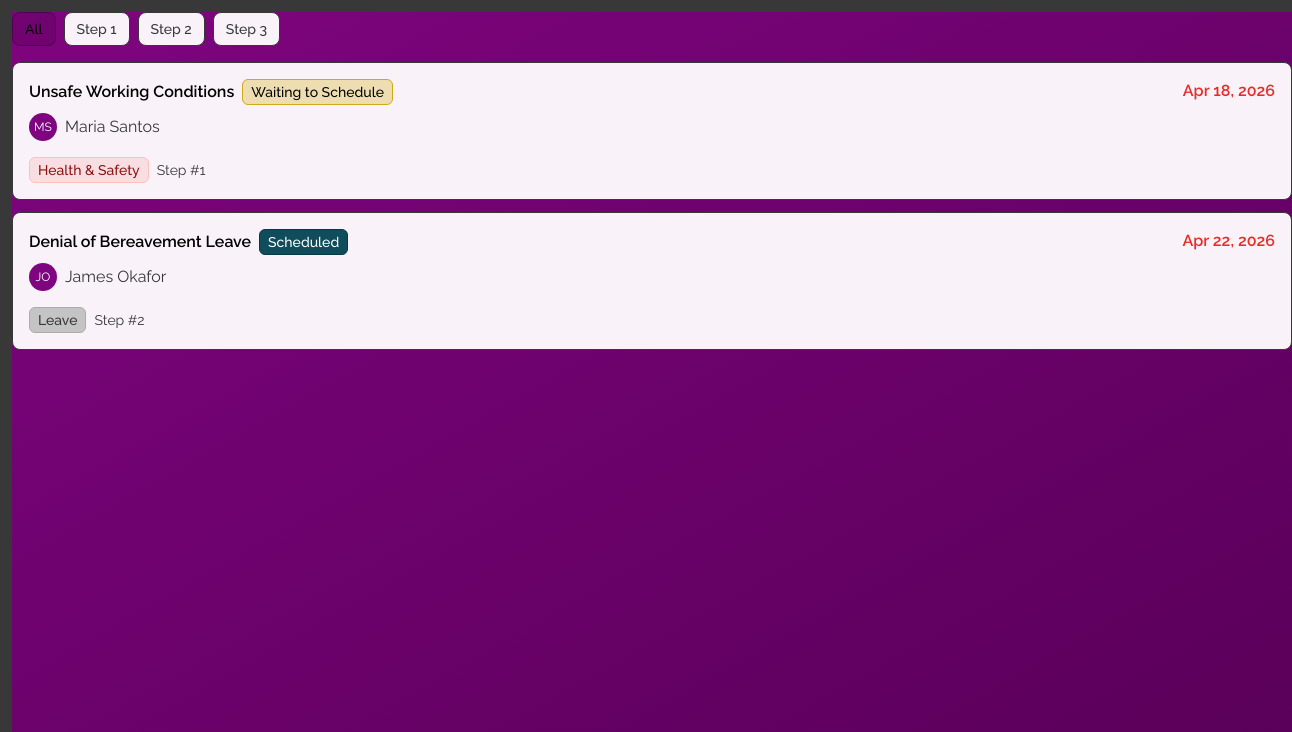
Test: StepFilterView › shows only Step #1 grievances when Step 1 filter is active
Click the button "Step 1" at (97, 29), box left=64, top=12, right=130, bottom=46
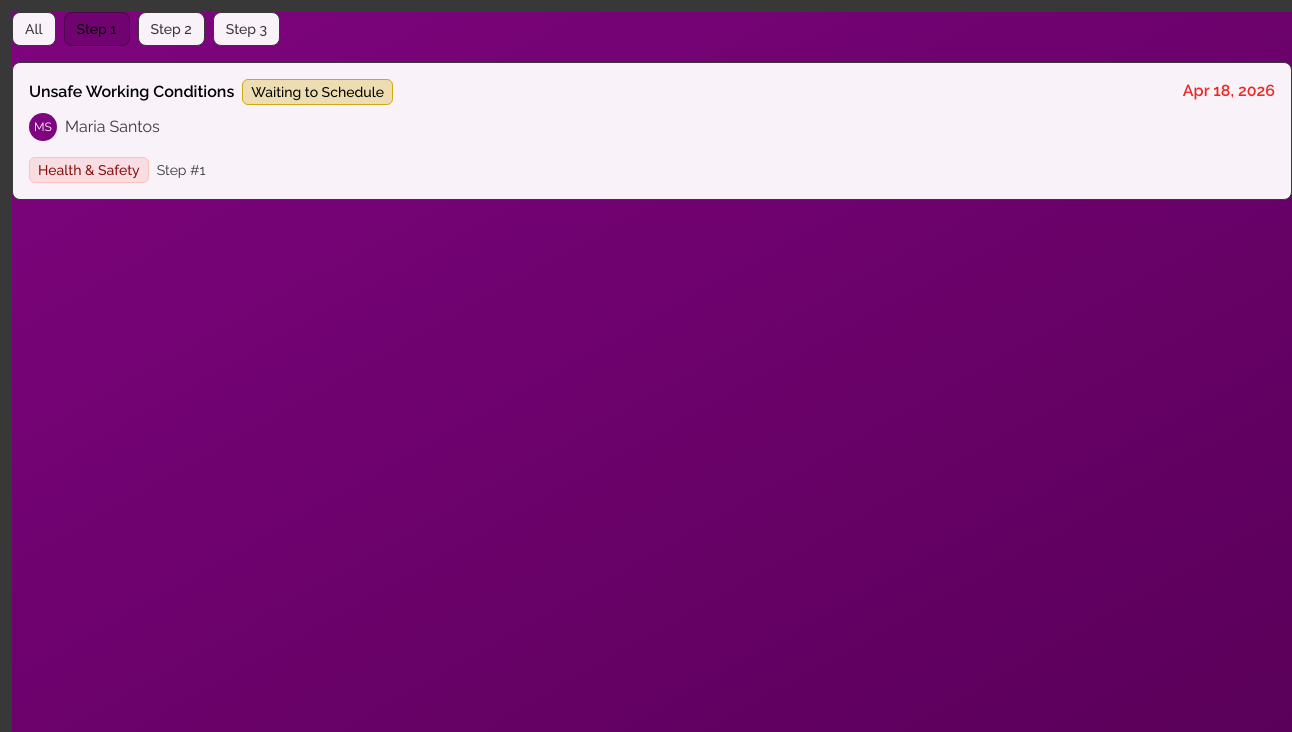
Expected: the heading "Unsafe Working Conditions" is shown, left=29, top=80, right=234, bottom=104
Expected: the link "Denial of Bereavement Leave" is gone
